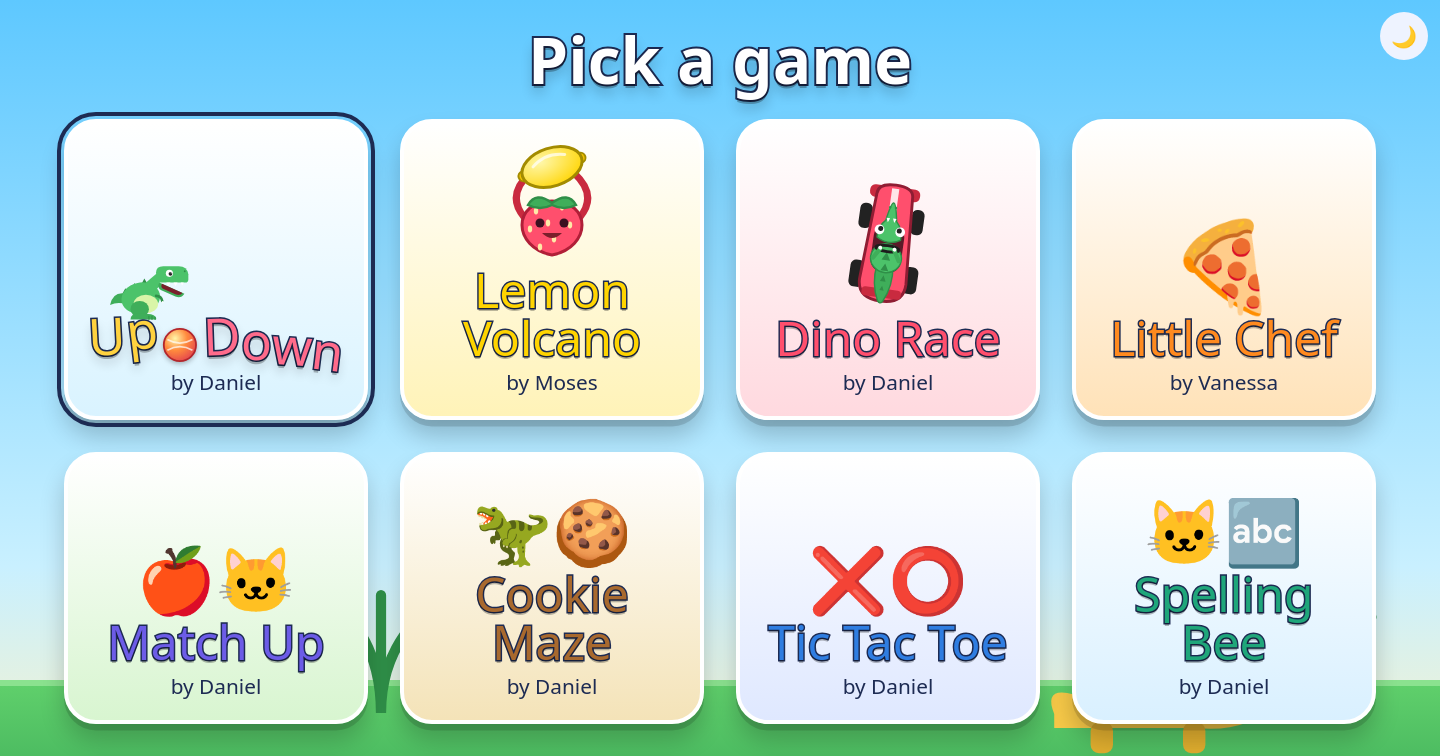
lemon-volcano, from the picker › opens with one tap on its card
The image size is (1440, 756).
Click the button with aria-label "Play Lemon Volcano" at [552, 270], box [400,119,704,420]
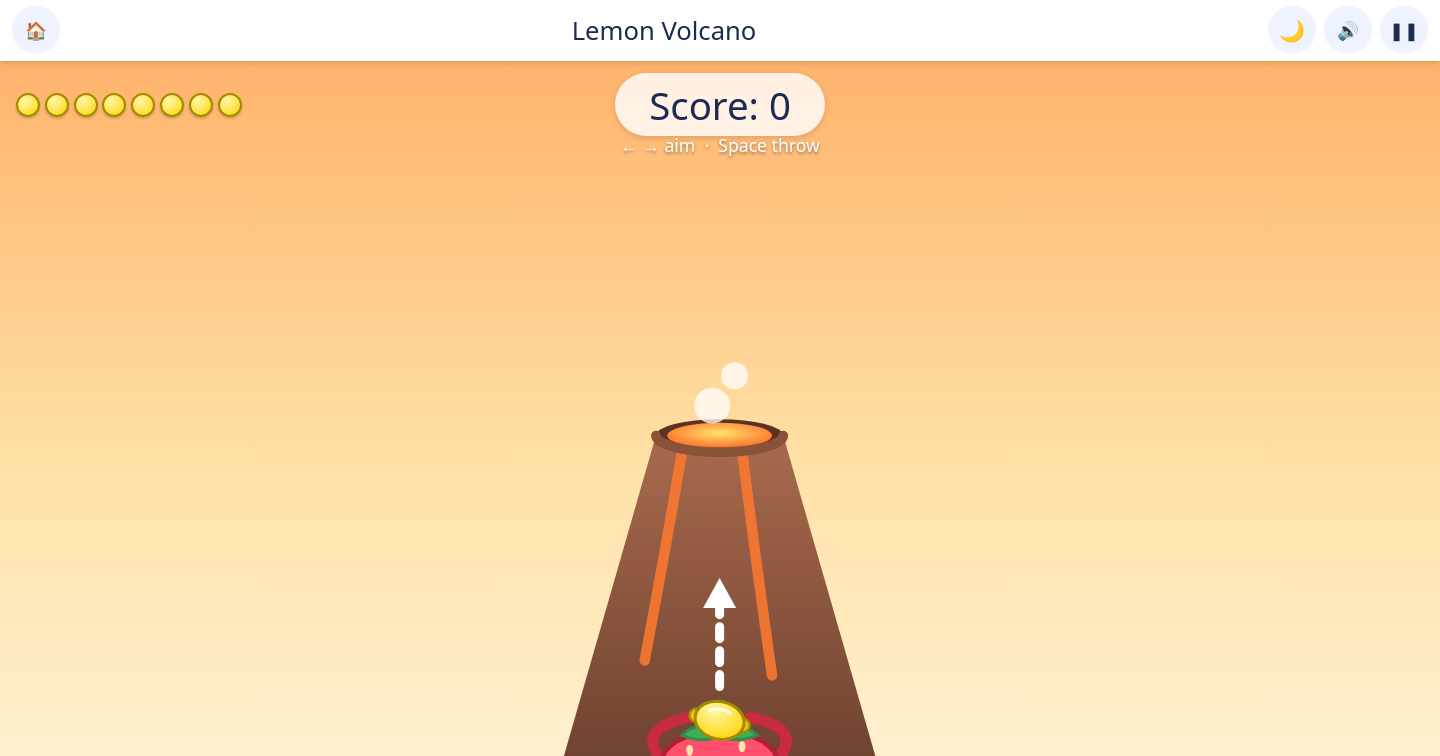
Now the heading "Pick a game" is gone
Now the picture named "8 lemons left" is shown, box [16,92,242,116]
